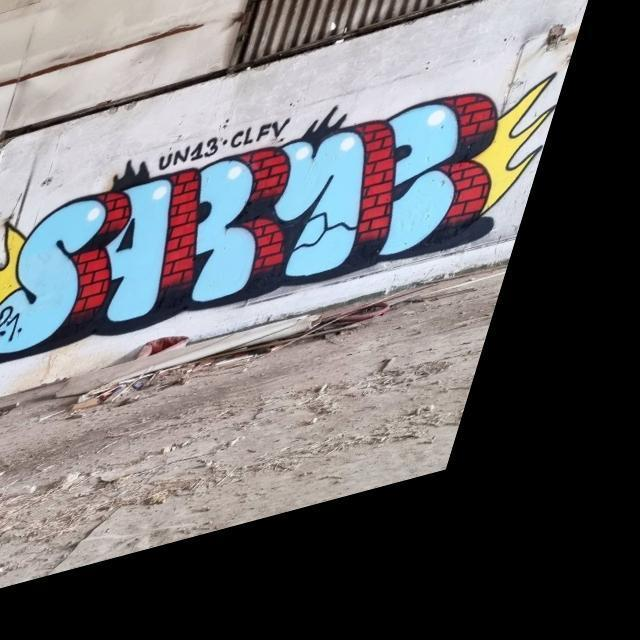-: (0, 90, 580, 382), (164, 128, 310, 190)
